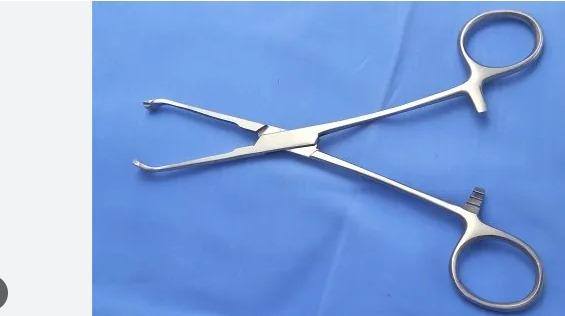Allis Forceps: (128, 6, 551, 311)
